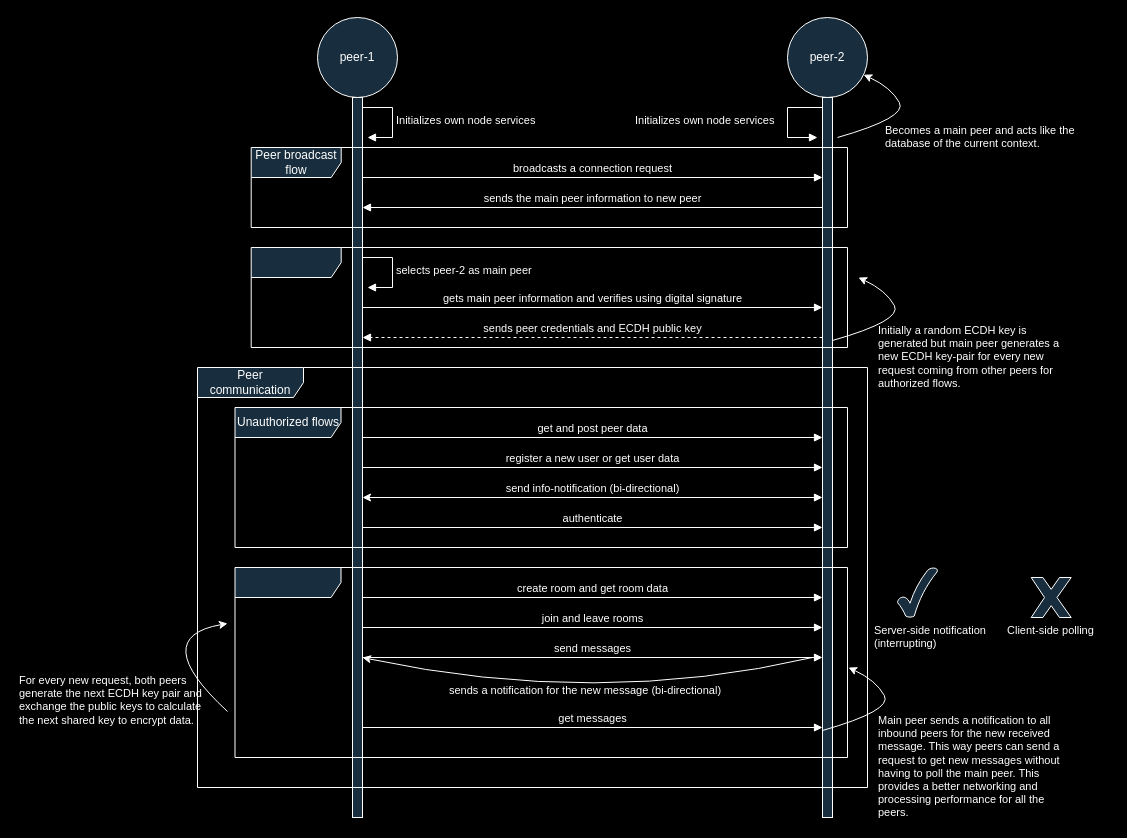
Some shapes in this 1127 by 838 pixel diagram are drawn without their labels. Here are the shapes that lost their labels. From the top down, the box of each, then its label:
(250, 246, 848, 348): Peer handshake
(234, 566, 848, 758): Authorized flows
